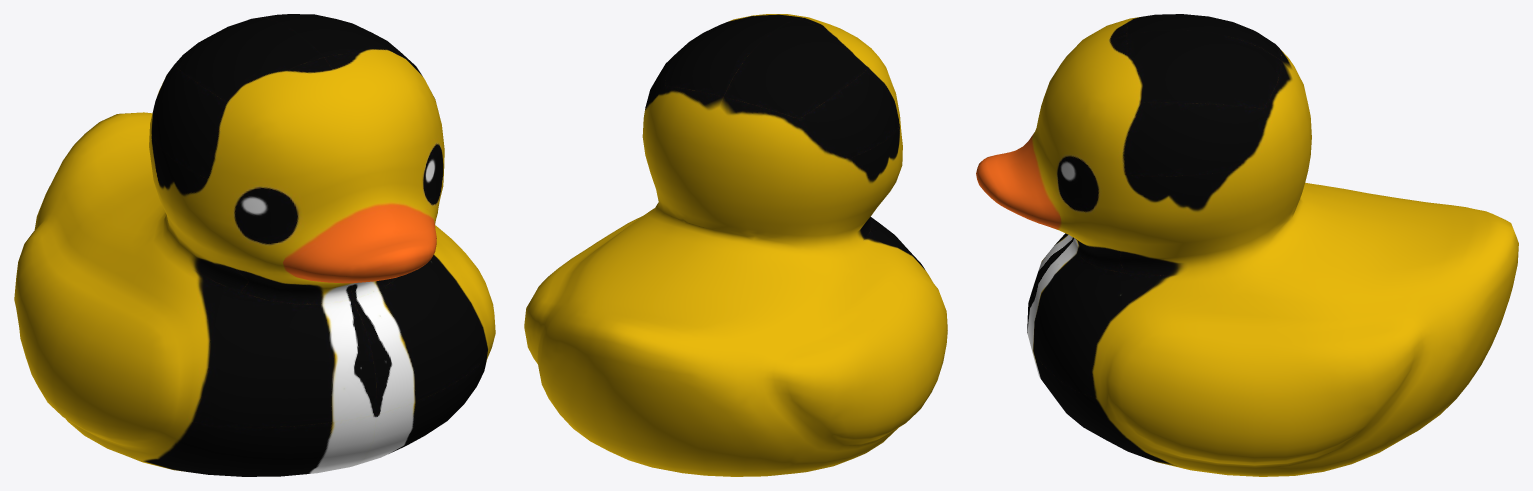
Rendered from sisi12k.obj.
3 views of the same model, side by side, from view 1: azimuth 30°, elevation 25°; view 2: azimuth 150°, elevation 25°; view 3: azimuth 270°, elevation 25° (orthographic). The views are drawn at different scales.
Visible parts, largest first — view 1: duck; view 2: duck; view 3: duck.
Part boxes in pixels (<box>): duck: <box>14,14,495,476</box>; duck: <box>524,14,947,476</box>; duck: <box>976,14,1518,476</box>.
Bounding box in the file's own units: 0.7289 × 0.706 × 0.9053.
2 materials, 1 textured.
